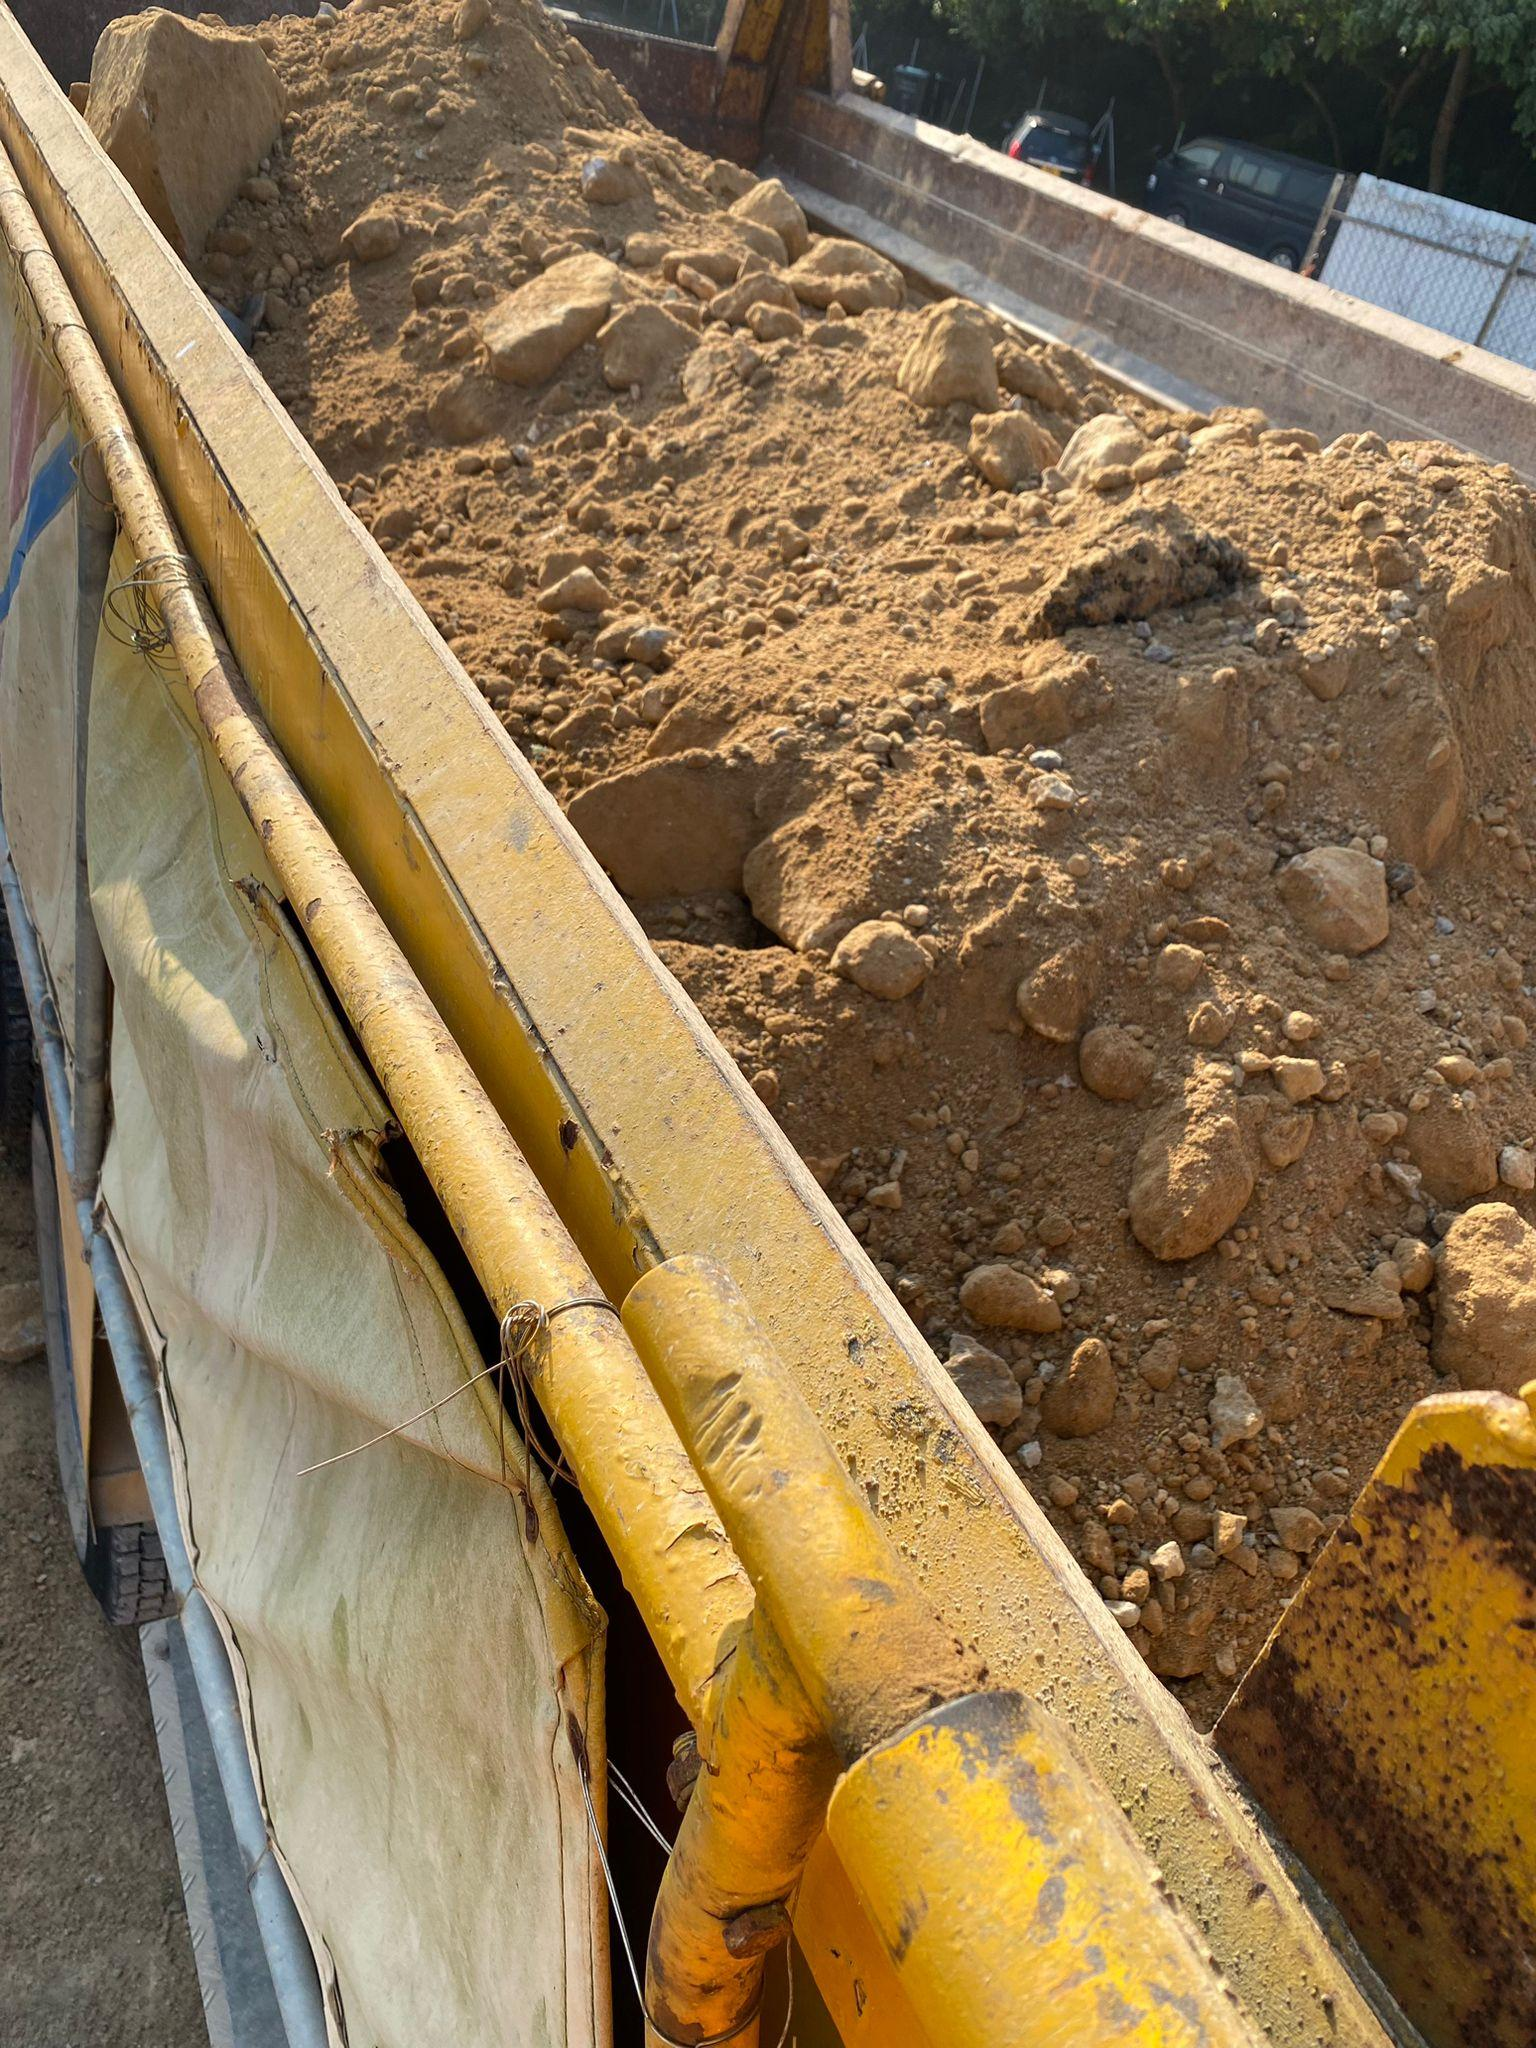stone: (75, 0, 1533, 1730), (1426, 1198, 1534, 1393), (1126, 1102, 1254, 1261), (476, 249, 620, 385), (978, 651, 1112, 751), (1276, 842, 1390, 953), (895, 296, 1000, 409), (782, 233, 905, 313), (596, 300, 701, 392), (1015, 937, 1104, 1042), (828, 916, 930, 999), (1039, 1335, 1117, 1436), (966, 407, 1060, 489), (958, 1261, 1063, 1332), (725, 175, 808, 261), (942, 1345, 1023, 1426), (1077, 1024, 1154, 1101), (533, 564, 613, 615), (579, 154, 638, 204), (340, 213, 401, 261)
